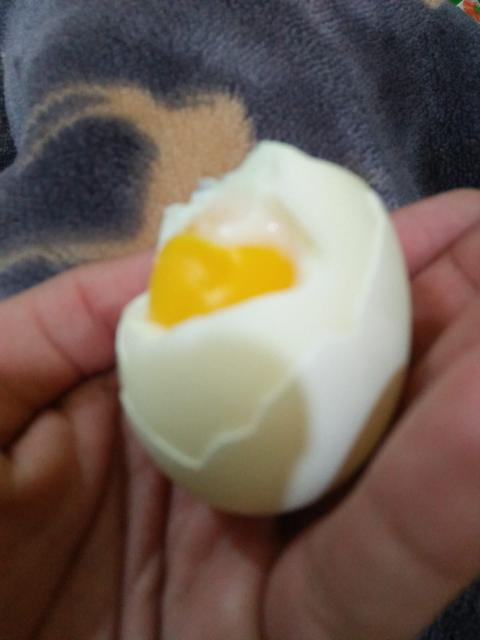Roto: (113, 139, 409, 514)
